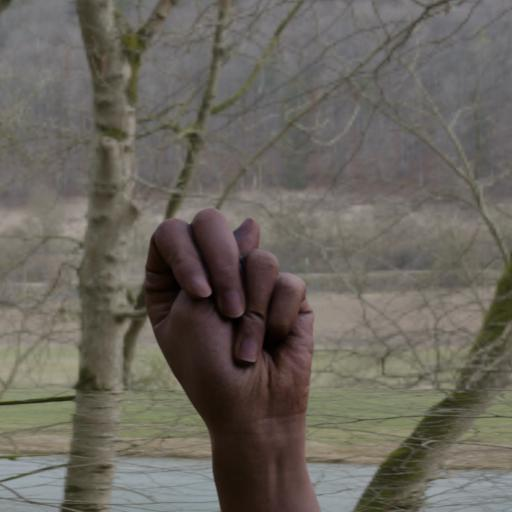N: (141, 204, 327, 428)
